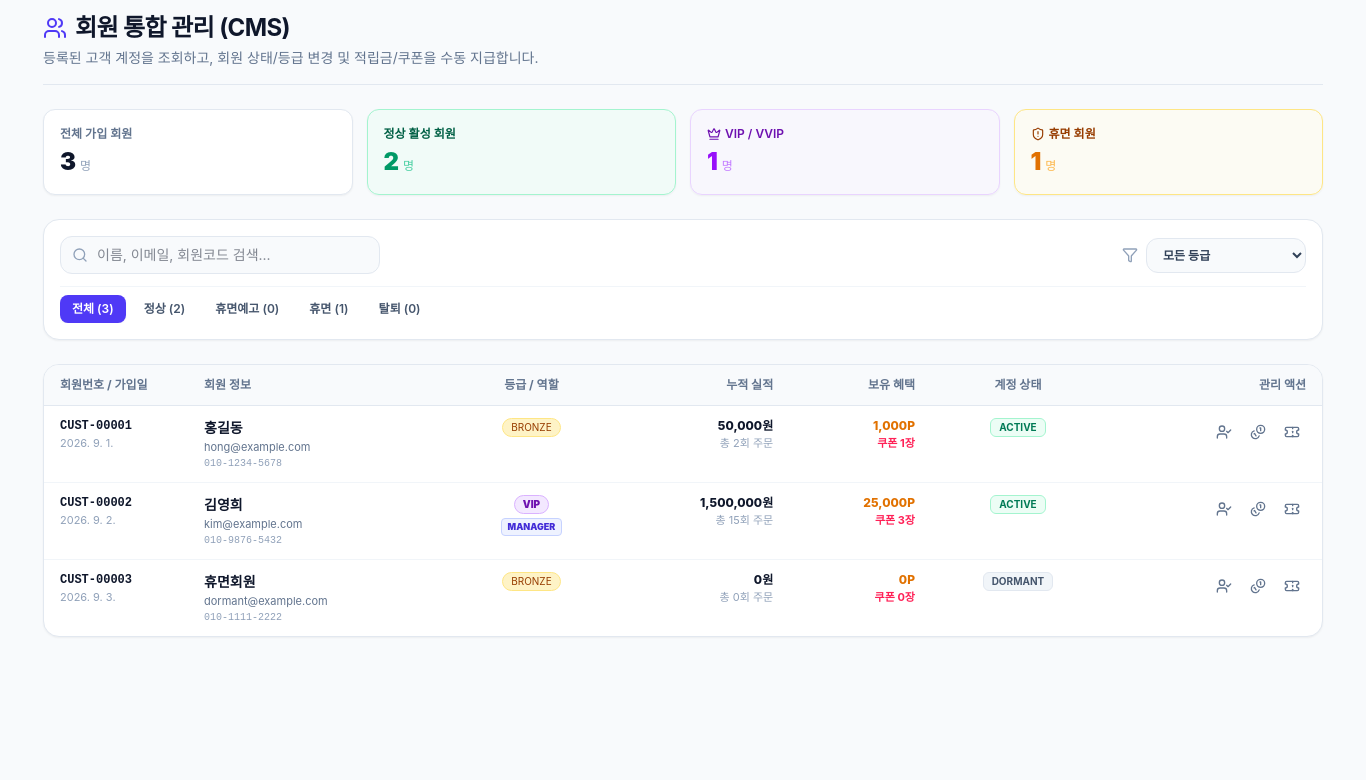
Test: AdminUserListViewer Component › 상태 탭(휴면) 클릭 시 휴면 회원만 표시된다
Click the button "휴면 (1)": {"x": 329, "y": 309} [297,295,361,323]
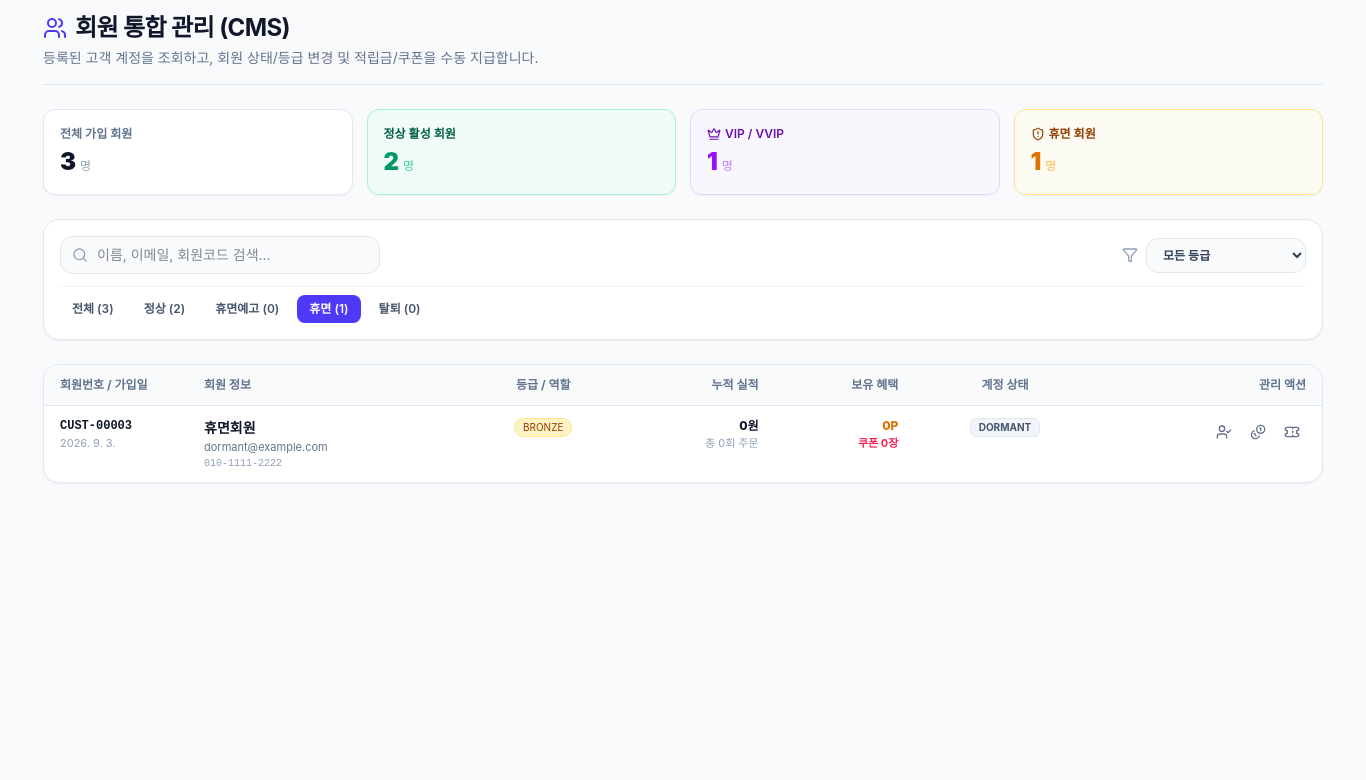
Expected: the text "휴면회원" is shown, [204,419,256,436]
Result: the text "홍길동" is gone
Result: the text "김영희" is gone
